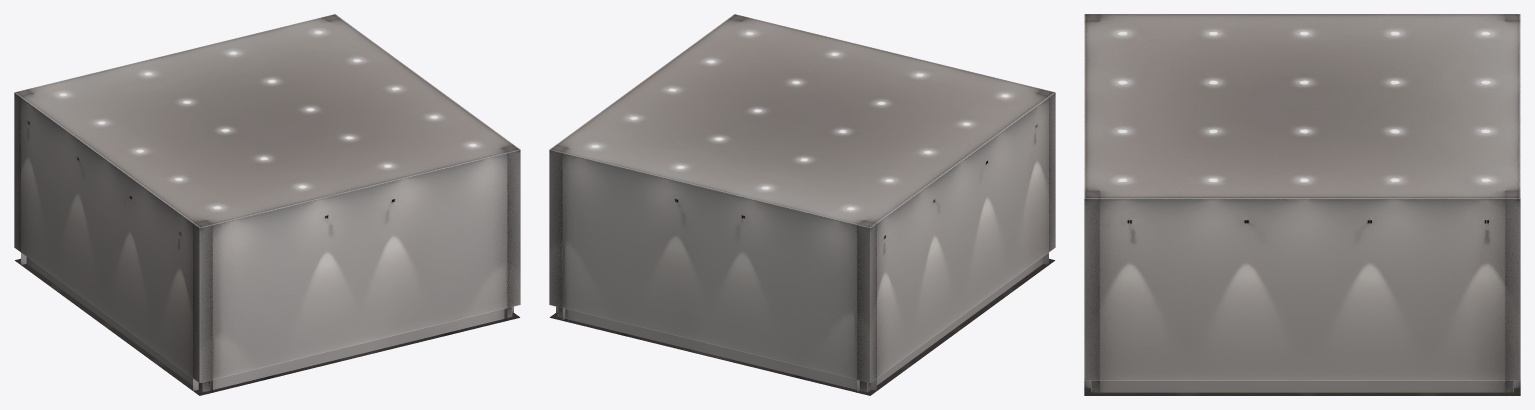
File: Museum(mobile).fbx
3 renders of one model, left to right at view 1: azimuth 30°, elevation 25°; view 2: azimuth 150°, elevation 25°; view 3: azimuth 270°, elevation 25°, orthographic. The views are drawn at different scales.
Parts seen in each view (by area): view 1: Museum(mobile)_obj.001; view 2: Museum(mobile)_obj.001; view 3: Museum(mobile)_obj.001.
Boxes of the visible parts, x1,y1,x2,y2 form: Museum(mobile)_obj.001: [14, 14, 520, 395]; Museum(mobile)_obj.001: [549, 14, 1055, 395]; Museum(mobile)_obj.001: [1084, 14, 1520, 395].
Size of the model in its own units: 10 by 5 by 10.
